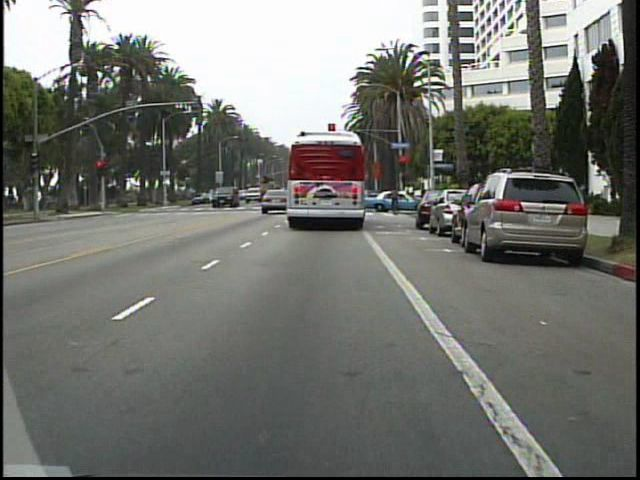person: (385, 185, 404, 217)
